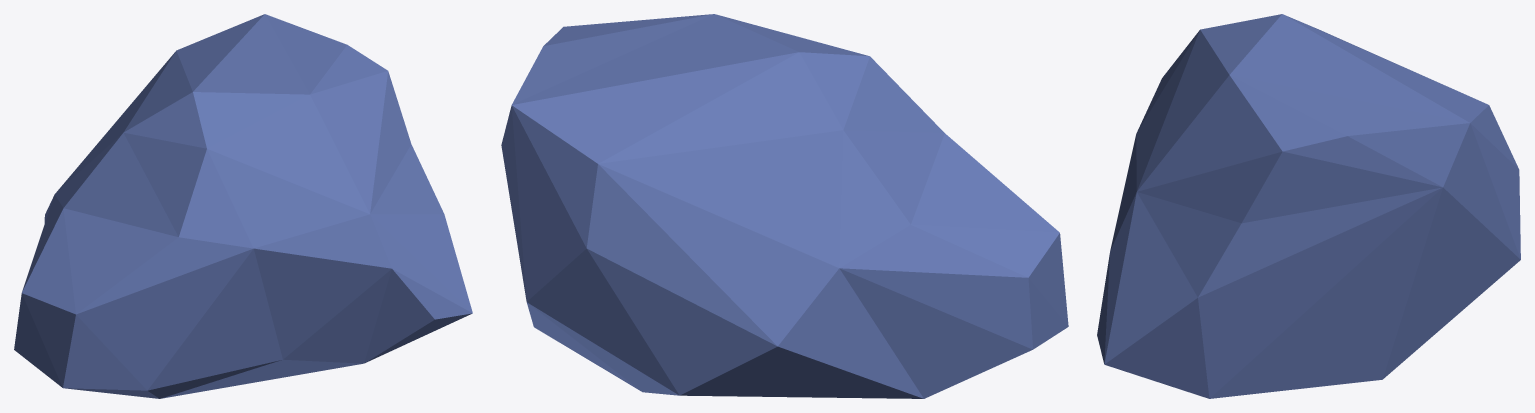
File: Puzzle_stone_4.glb
3 views of the same model, side by side, from view 1: azimuth 30°, elevation 25°; view 2: azimuth 150°, elevation 25°; view 3: azimuth 270°, elevation 25° (orthographic). The views are drawn at different scales.
Visible parts, largest first — view 1: Puzzle_stone_04; view 2: Puzzle_stone_04; view 3: Puzzle_stone_04.
Part boxes in pixels (left/top/right/bottom): Puzzle_stone_04: left=14, top=14, right=472, bottom=398; Puzzle_stone_04: left=501, top=14, right=1068, bottom=398; Puzzle_stone_04: left=1097, top=14, right=1520, bottom=398.
Bounding box in the file's own units: 0.0763 × 0.0466 × 0.062.
